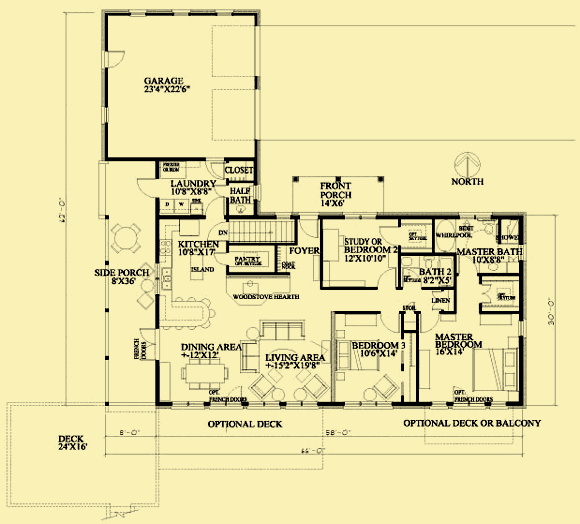bed: (470, 345, 522, 394), (336, 338, 382, 374)
dining table: (179, 357, 229, 394)
door: (136, 325, 163, 364), (200, 153, 228, 182), (376, 220, 402, 250), (374, 262, 400, 292), (134, 174, 162, 200), (202, 195, 230, 220), (377, 309, 403, 335), (101, 45, 126, 70), (297, 216, 322, 241), (416, 310, 440, 335), (209, 219, 232, 245), (477, 280, 491, 309)
kitchen bar: (188, 247, 208, 284)
large sink: (482, 219, 495, 238)
large sofa: (255, 317, 306, 342), (238, 337, 262, 376)
round table: (110, 221, 144, 257)
small sofa: (301, 371, 329, 401), (249, 374, 278, 400), (371, 372, 400, 398), (133, 290, 156, 313), (135, 262, 156, 281)
stairs: (231, 217, 300, 247), (226, 219, 298, 246)
tub: (434, 217, 456, 255)
windows: (427, 398, 511, 414), (341, 400, 402, 414), (167, 398, 208, 416), (282, 399, 320, 414), (242, 400, 284, 413), (207, 399, 247, 412), (98, 103, 111, 125)
